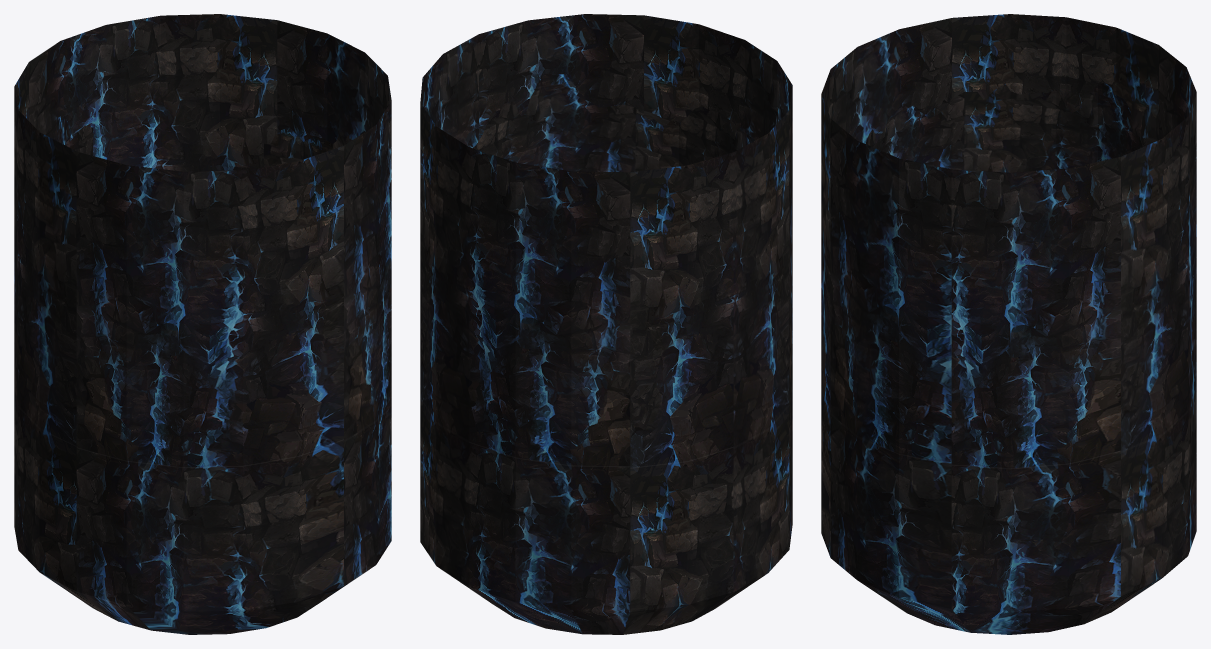
The model's file is f_1103_black.FBX.
The picture shows the model from 3 angles, left to right: view 1: azimuth 30°, elevation 25°; view 2: azimuth 150°, elevation 25°; view 3: azimuth 270°, elevation 25°; orthographic projection.
Visible parts, largest first — view 1: f_1103_black, f_1103_black01; view 2: f_1103_black, f_1103_black01; view 3: f_1103_black, f_1103_black01.
Boxes of the visible parts, box(x1,y1,x2,y2) form: f_1103_black: box(14, 14, 391, 634); f_1103_black01: box(55, 115, 351, 166); f_1103_black: box(420, 14, 792, 634); f_1103_black01: box(473, 73, 749, 172); f_1103_black: box(821, 14, 1196, 634); f_1103_black01: box(866, 83, 1147, 172).
Size of the model in its own units: 3832 by 6051 by 3829.
